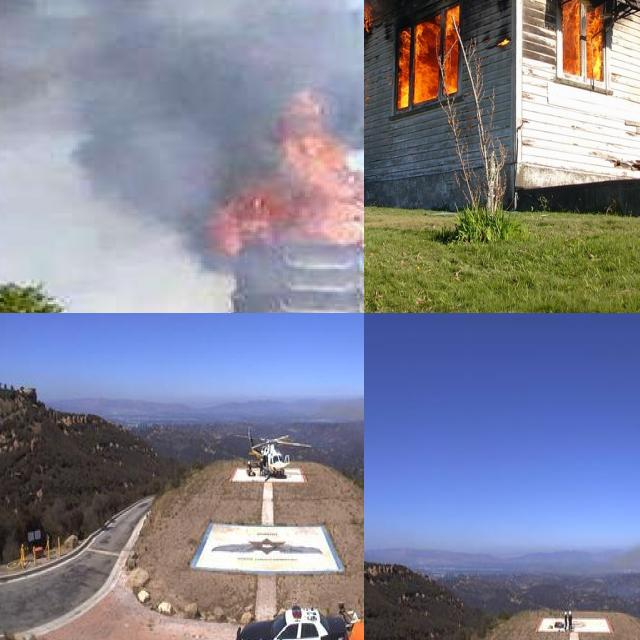fire: (195, 91, 364, 252), (539, 0, 640, 97), (393, 0, 461, 105)
smoke: (0, 0, 364, 205)
